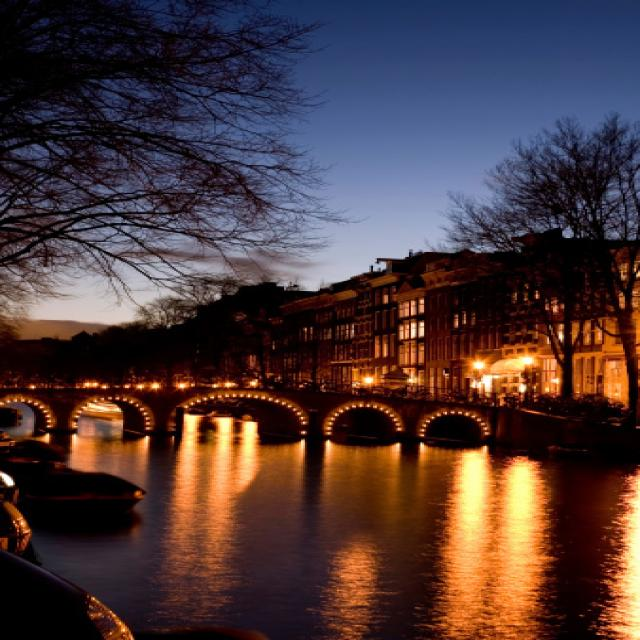Boat: (474, 367, 640, 485), (0, 435, 170, 540)
